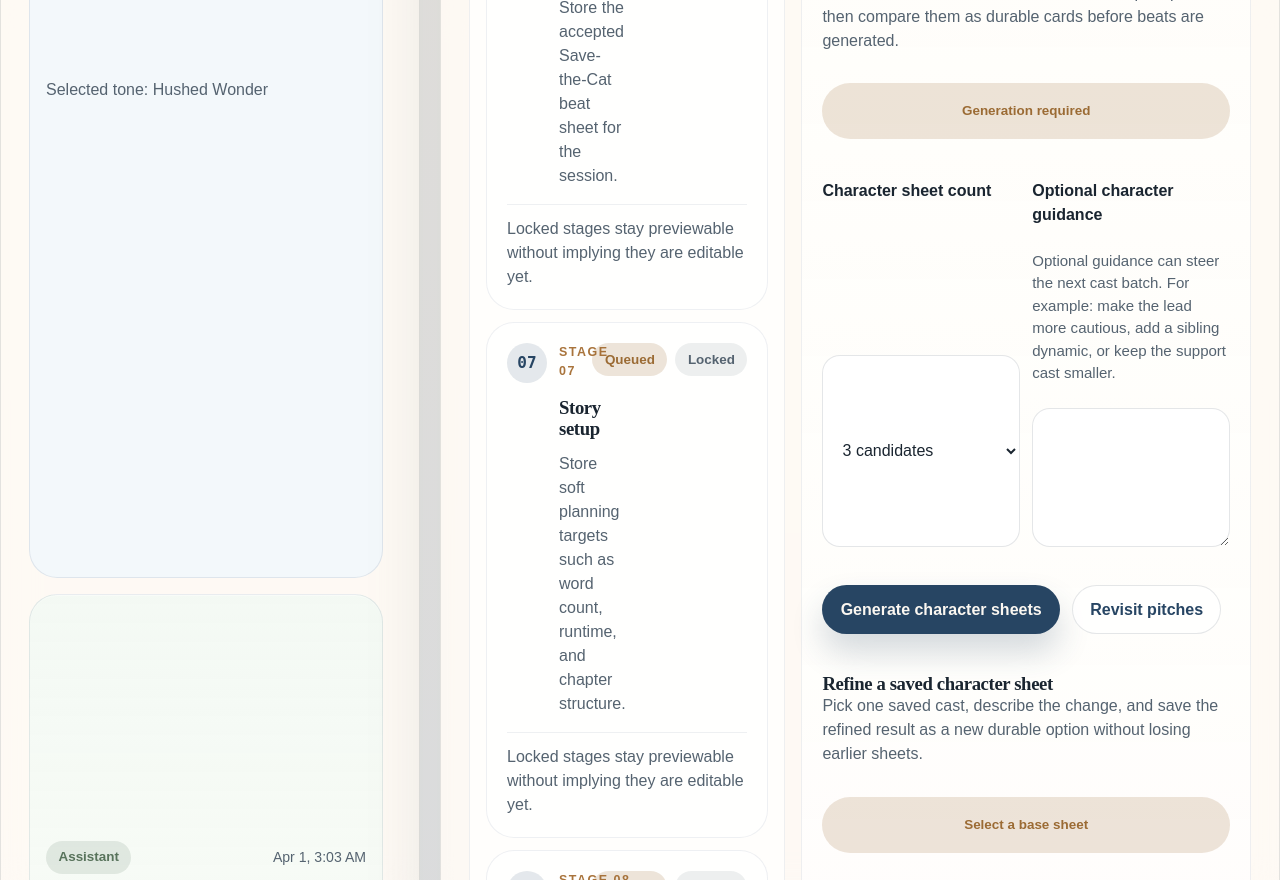
Scenario: SessionWorkspacePage › generates a durable character batch from the characters stage
(page scrolled)
Select "5 candidates" in the dropdown labelled "Character sheet count" at {"x": 921, "y": 451}, box [822,355,1020,547]
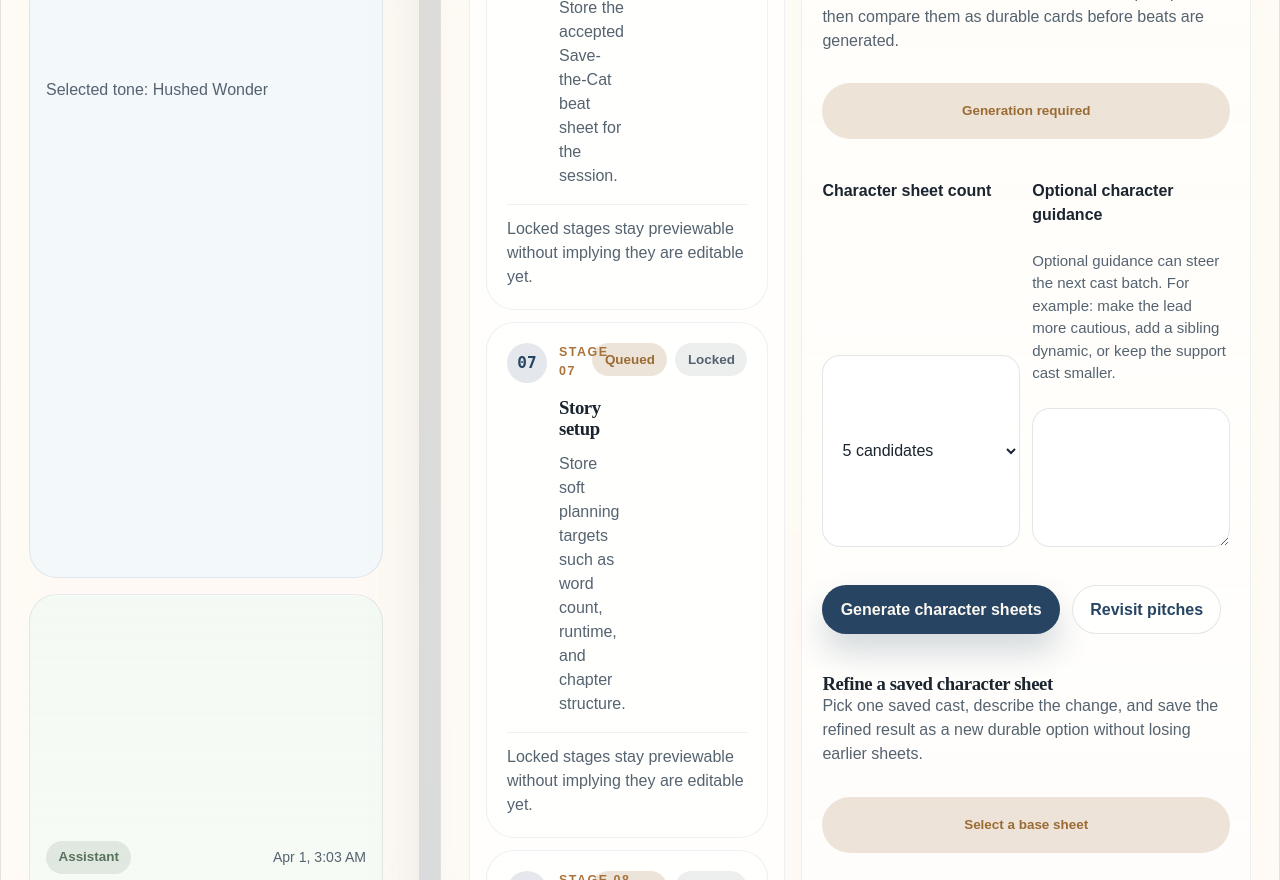
Type "Keep the support cast compact and clearly cozy." into the text box labelled "Optional character guidance" at {"x": 1131, "y": 477}, box [1032,408,1230,547]
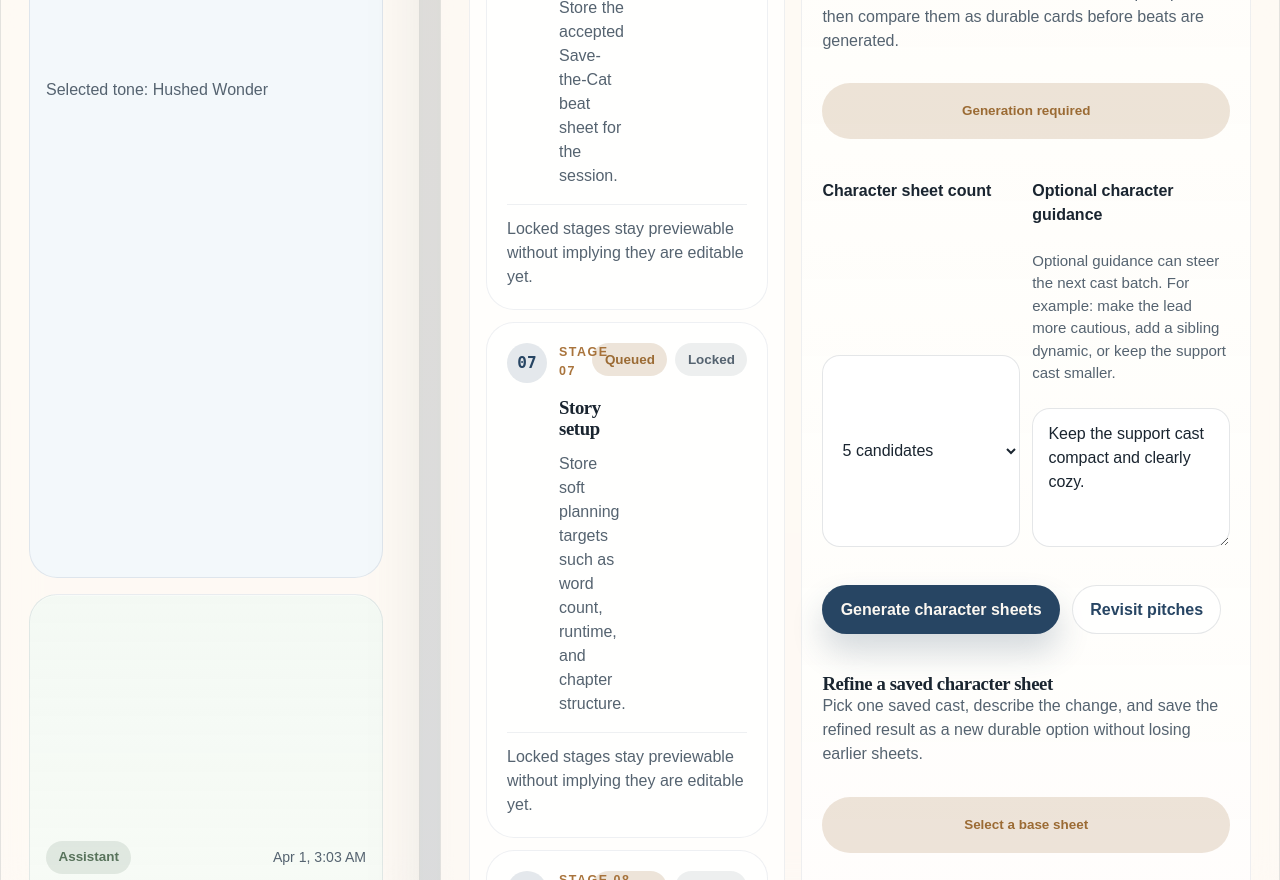
Click the button "Generate character sheets" at {"x": 941, "y": 610}, box [822,585,1060,634]
(page scrolled)
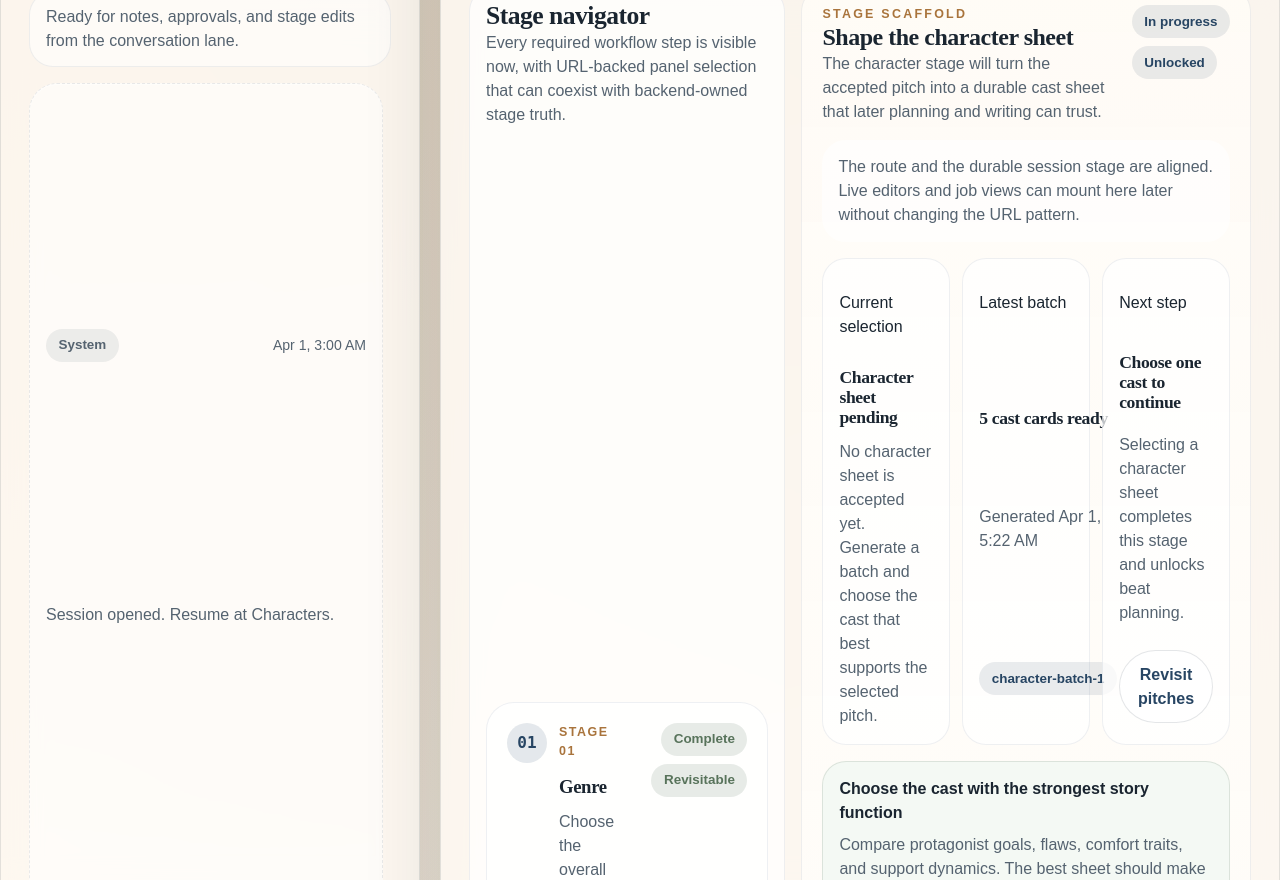
Expected: the heading "5 cast cards ready" is shown, [979,408,1108,428]
